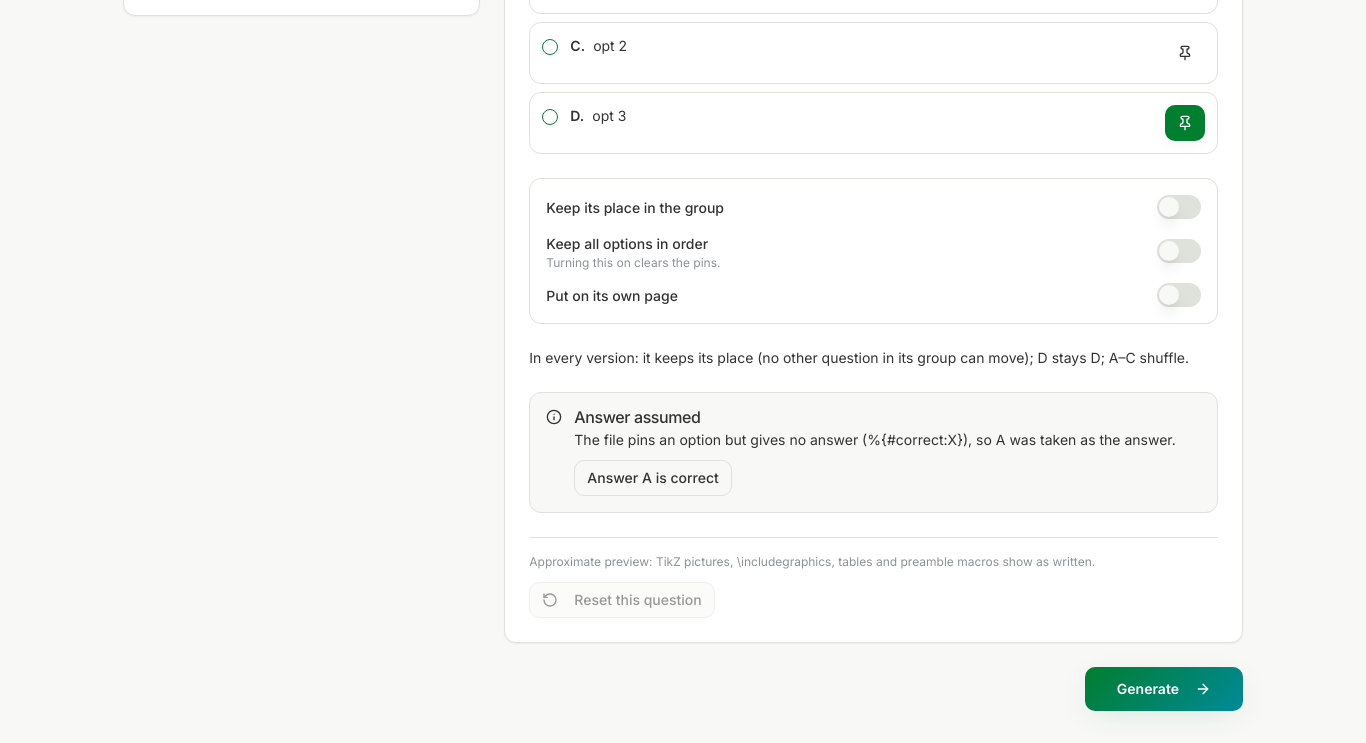
it: Questions page › confirms an assumed answer without changing it
(page scrolled)
Check: the message with test id "note-answer-assumed" is shown, box [529,392,1218,513]
Step 1. Click the button "Answer A is correct" → click(653, 478), box [574,460,732,496]
(page scrolled)
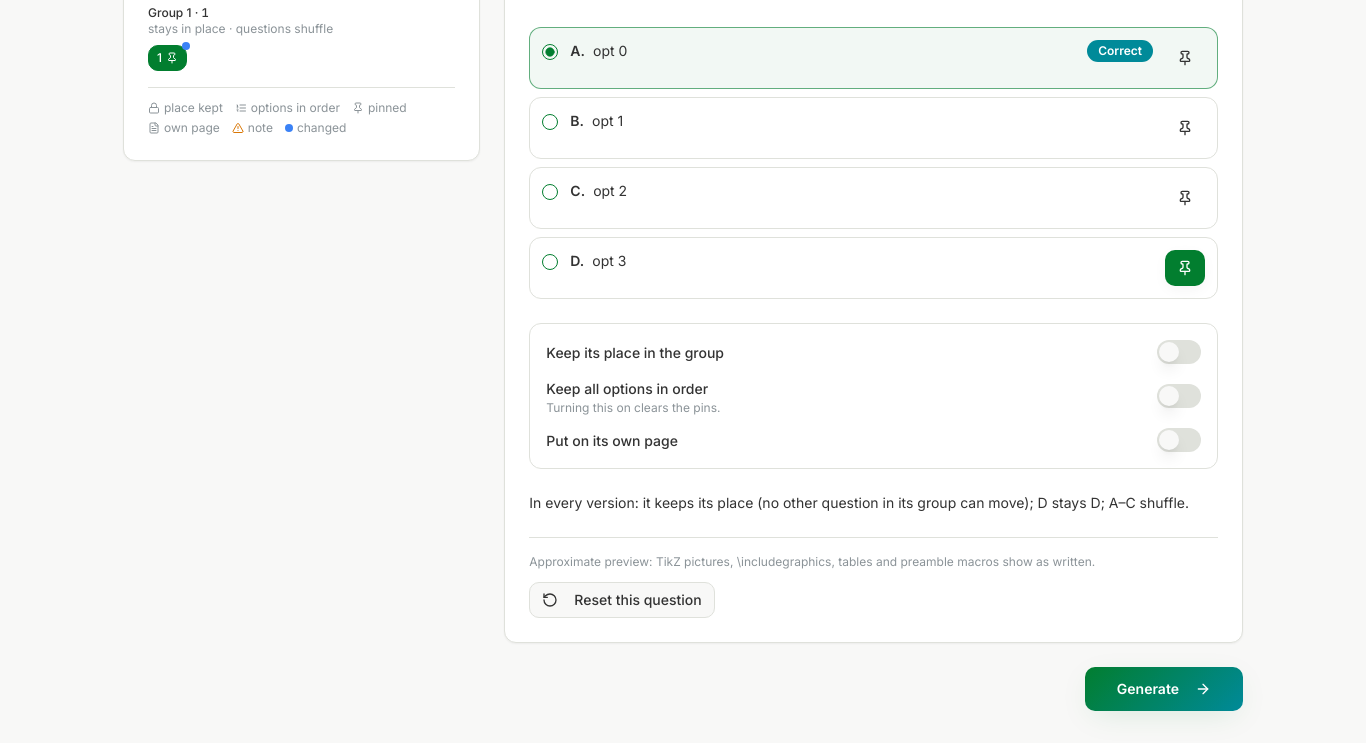
Check: the message with test id "note-answer-assumed" is gone
